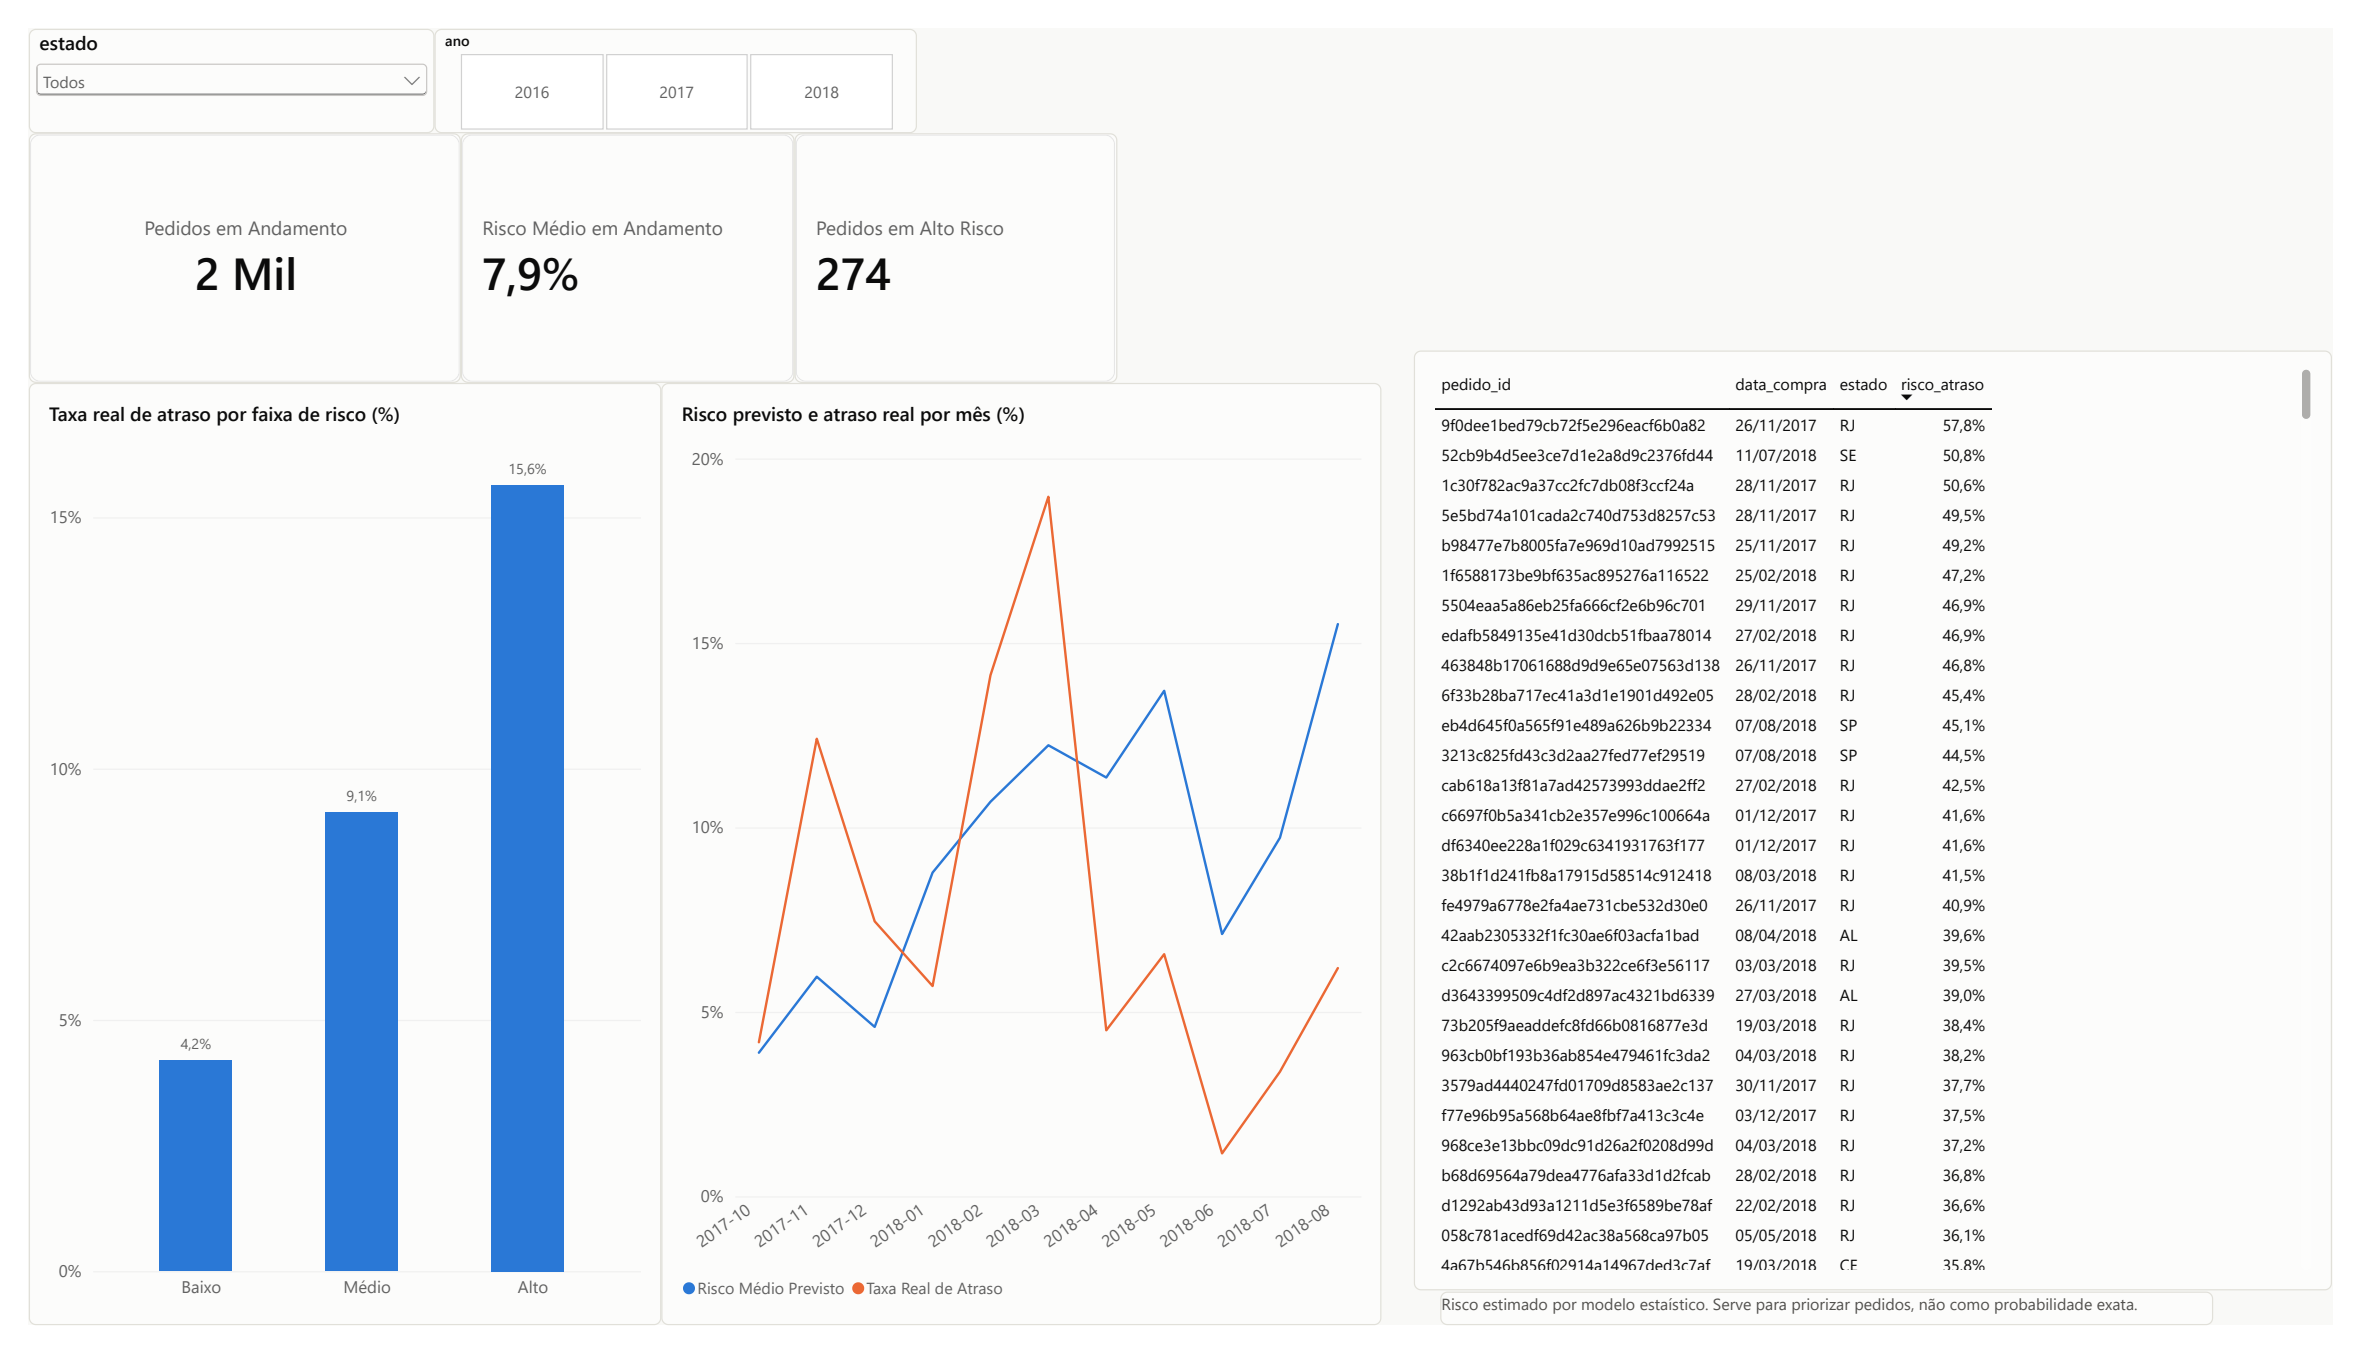

Layout of this report page (visuals, bound fields, positions):
{"tool":"powerbi","page":{"name":"Risco de atraso","canvas":[1920,1080],"ordinal":3},"visuals":[{"type":"cardVisual","fields":{"Data":["Medidas.Pedidos em Andamento"]},"box":[0,86.7,360,208.3],"z":0},{"type":"cardVisual","fields":{"Data":["Medidas.Pedidos em Alto Risco"]},"box":[638.3,86.7,268.3,208.3],"z":1000},{"type":"cardVisual","fields":{"Data":["Medidas.Risco Médio em Andamento"]},"box":[360,86.7,278.3,208.3],"z":2000},{"type":"slicer","fields":{"Values":["dim_data.ano"]},"box":[338.3,0,401.7,86.7],"z":3000},{"type":"slicer","fields":{"Values":["dim_cliente.estado"]},"box":[0,0,338.3,86.7],"z":4000},{"type":"columnChart","title":"Taxa real de atraso por faixa de risco (%)","fields":{"Category":["previsao_atraso.faixa_risco"],"Y":["Medidas.Taxa Real de Atraso"]},"box":[0,295,526.7,785],"z":5000},{"type":"lineChart","title":"Risco previsto e atraso real por mês (%)","fields":{"Category":["dim_data.ano_mes"],"Y":["Medidas.Risco Médio Previsto","Medidas.Taxa Real de Atraso"]},"box":[526.7,295,600,785],"z":6000},{"type":"tableEx","fields":{"Values":["previsao_atraso.pedido_id","previsao_atraso.data_compra","dim_cliente.estado","previsao_atraso.risco_atraso"]},"box":[1154,268,765,783.3],"z":7000},{"type":"textbox","box":[1176,1052,644,28],"z":7001}]}

Visuals, with their boxes in screenshot pixels (x1, y1, x2, y2), scaled from the page's 1920x1080 canvas onto the 2362x1354 screenshot:
cardVisual - Medidas.Pedidos em Andamento: bbox=(0, 109, 443, 370)
cardVisual - Medidas.Pedidos em Alto Risco: bbox=(785, 109, 1115, 370)
cardVisual - Medidas.Risco Médio em Andamento: bbox=(443, 109, 785, 370)
slicer - dim_data.ano: bbox=(416, 0, 910, 109)
slicer - dim_cliente.estado: bbox=(0, 0, 416, 109)
"Taxa real de atraso por faixa de risco (%)" columnChart: bbox=(0, 370, 648, 1353)
"Risco previsto e atraso real por mês (%)" lineChart: bbox=(648, 370, 1386, 1353)
tableEx - previsao_atraso.pedido_id x previsao_atraso.data_compra: bbox=(1420, 336, 2361, 1318)
textbox: bbox=(1447, 1319, 2239, 1353)
